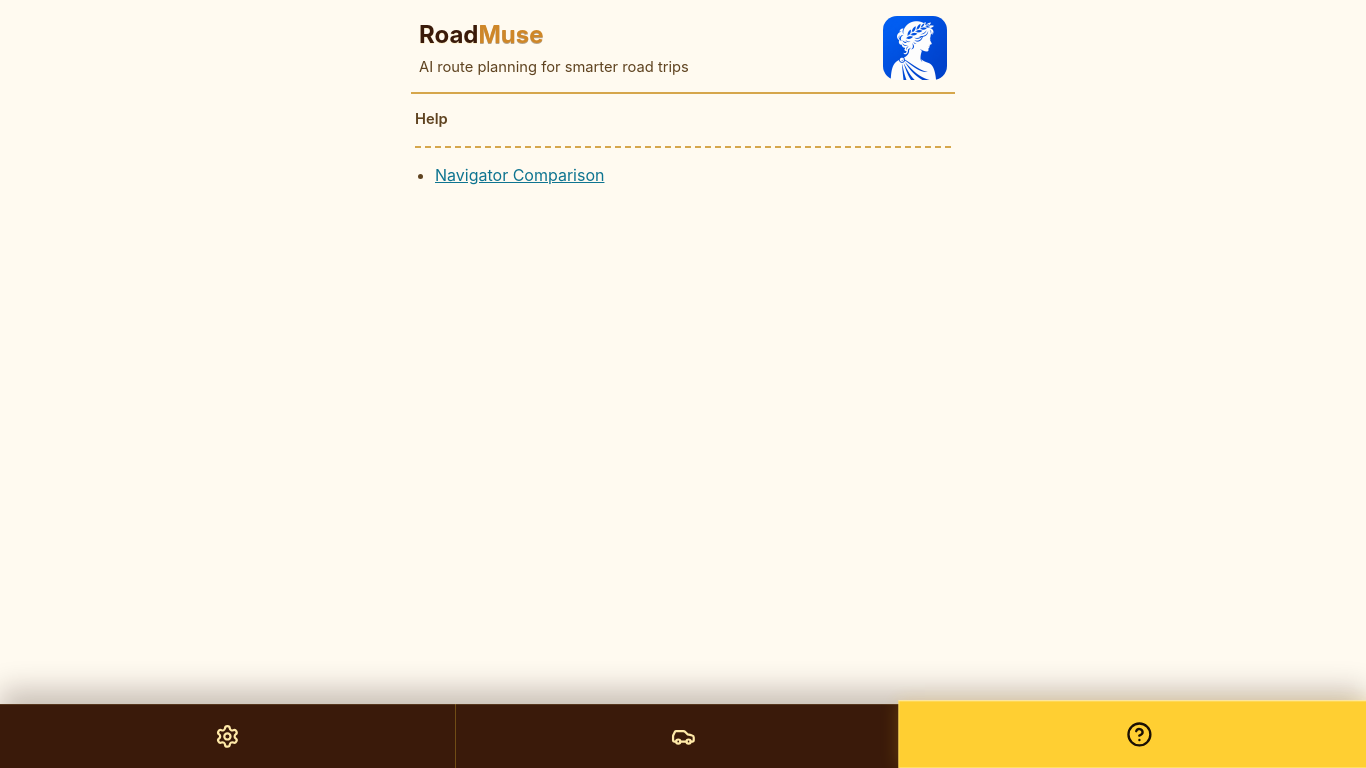
Test: App › navigates from help to the navigator comparison
Expected: the list item "Help" is shown, [415, 110, 448, 128]
Click the link "Navigator Comparison".
click(520, 175)  # box [435, 165, 604, 185]
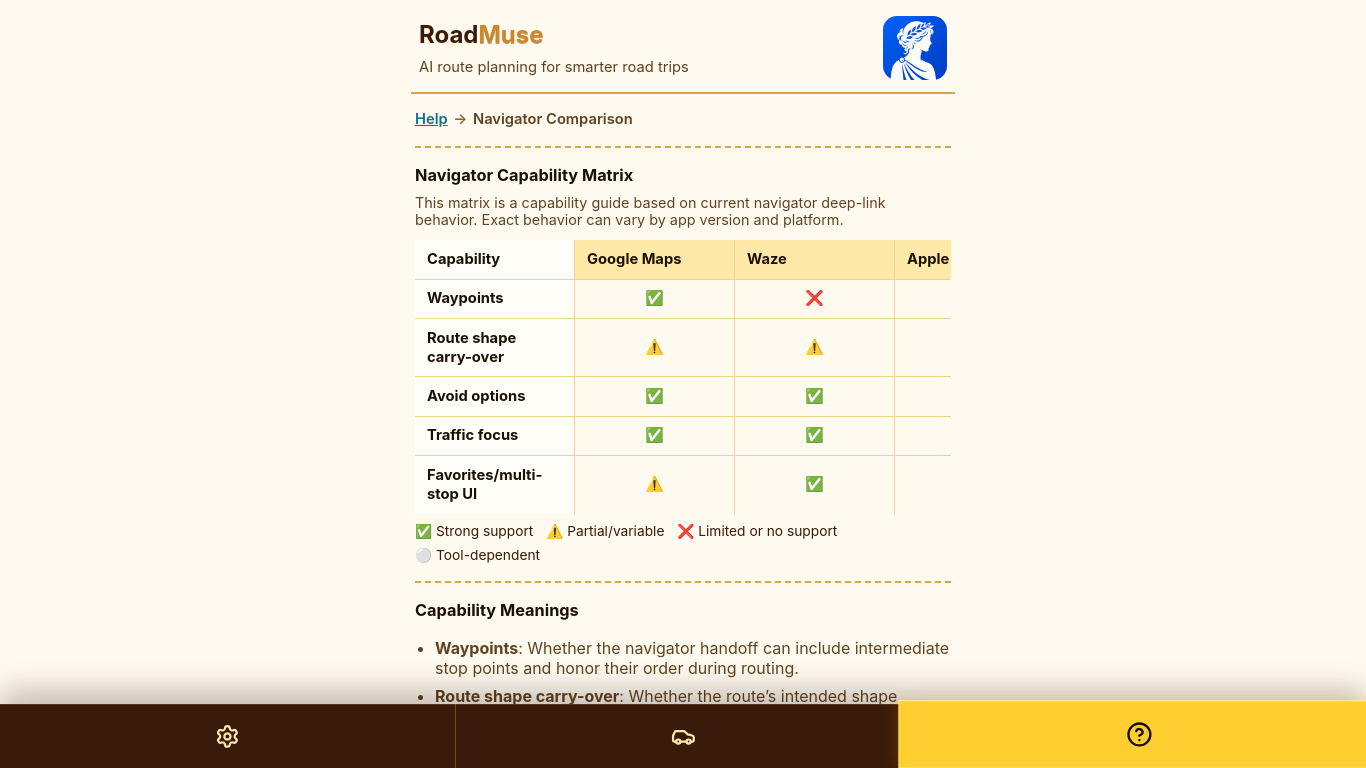
Expected: the link "Help" is shown, [415, 110, 448, 128]
Expected: the heading "Navigator Capability Matrix" is shown, [415, 165, 633, 185]
